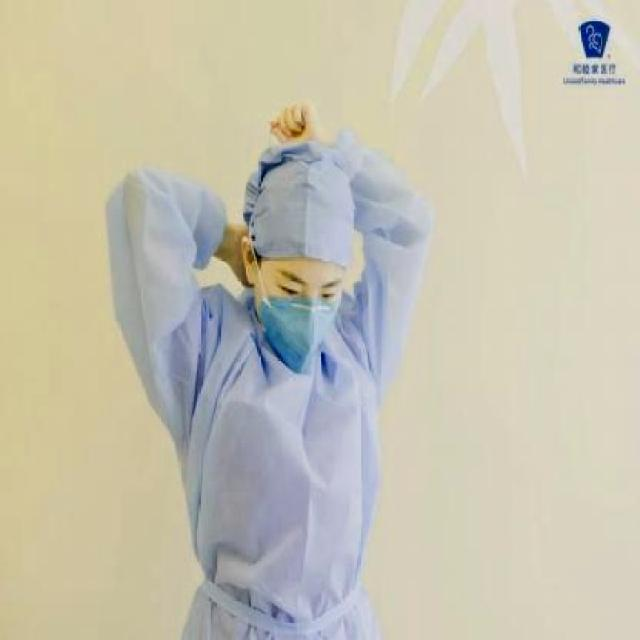face_mask: (262, 243, 343, 360)
hand_noglove: (269, 100, 323, 145), (228, 220, 258, 289)
head_nohelmet: (247, 152, 362, 274)
person: (88, 98, 440, 640)
